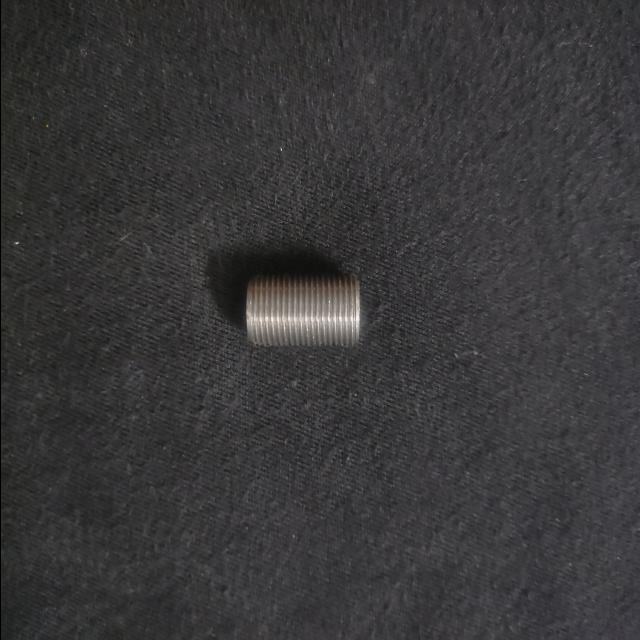Normal: (236, 268, 368, 352)
